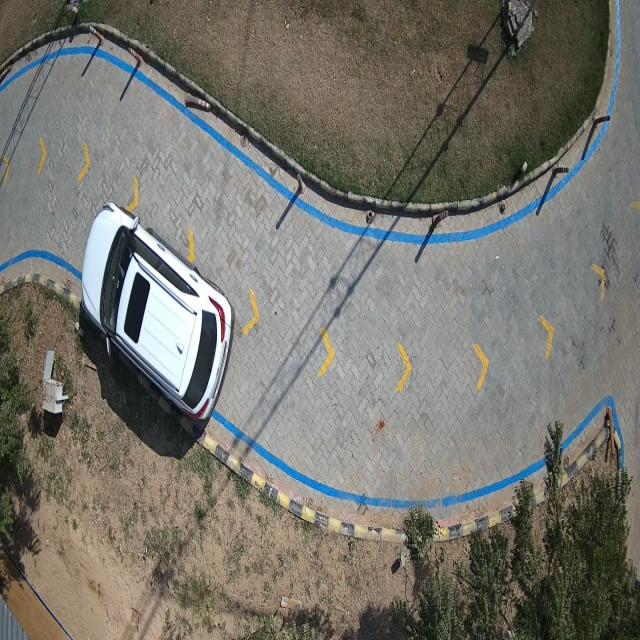car: (81, 201, 237, 424)
